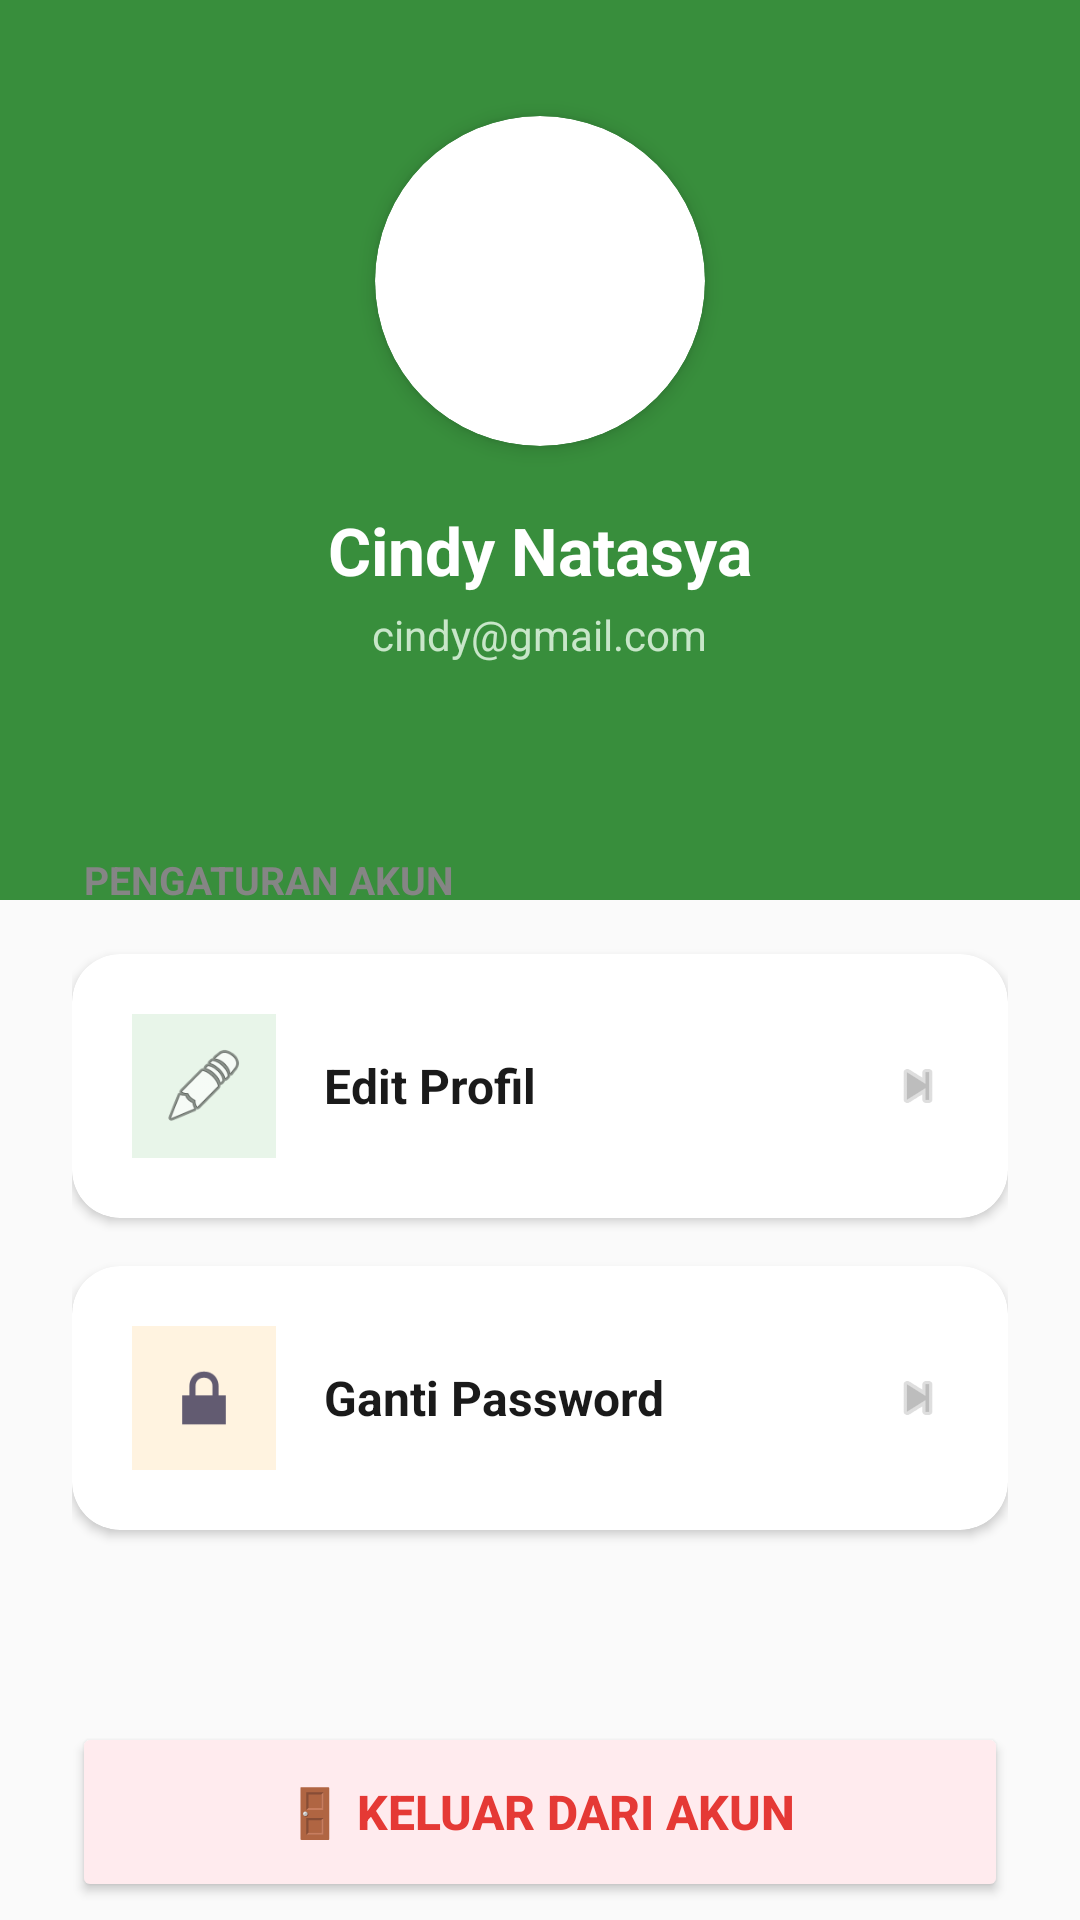

Where icons sit on this 1080w x 1920h app screen, as (x1, y1, x2, y2):
lock: (132, 1326, 276, 1470)
next: (904, 1069, 932, 1103), (904, 1381, 932, 1415)
